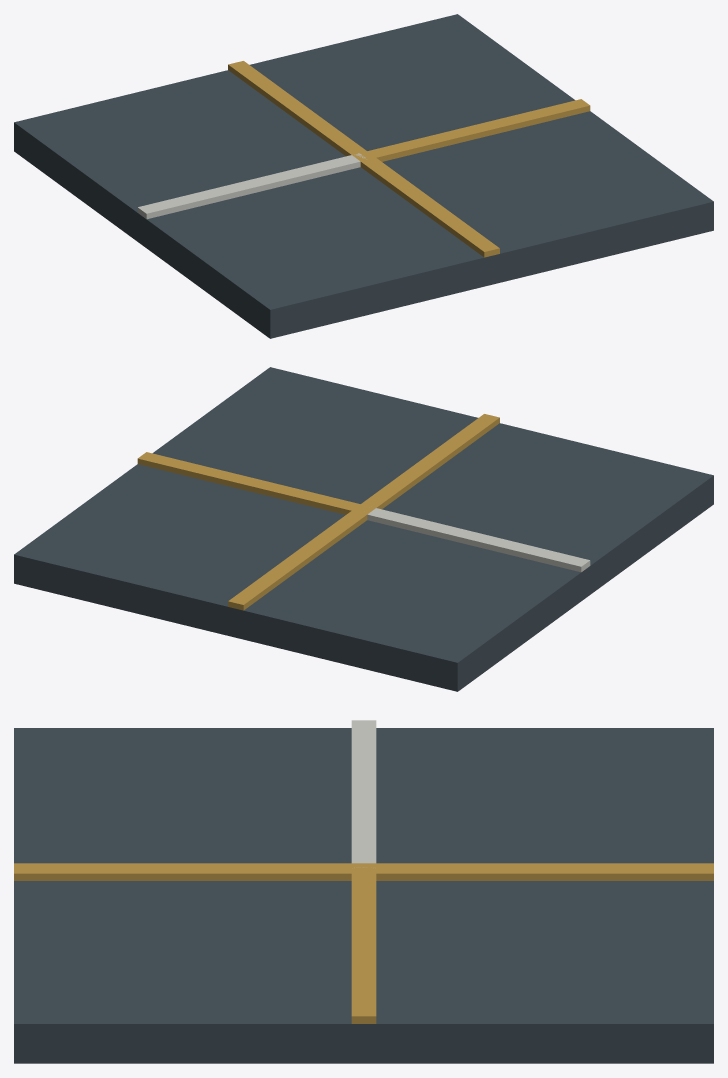
File: terrain-road-cross.lod0.glb
3 views of the same model, one above another, from view 1: azimuth 30°, elevation 25°; view 2: azimuth 150°, elevation 25°; view 3: azimuth 270°, elevation 25° (orthographic). The views are drawn at different scales.
Parts seen in each view (by area): view 1: terrain-road-cross__body; view 2: terrain-road-cross__body; view 3: terrain-road-cross__body.
Part boxes in pixels (bbox=[...]): terrain-road-cross__body: bbox=[14, 14, 713, 338]; terrain-road-cross__body: bbox=[14, 367, 713, 691]; terrain-road-cross__body: bbox=[14, 720, 713, 1063].
Bounding box in the file's own units: 2 × 0.149 × 2.
